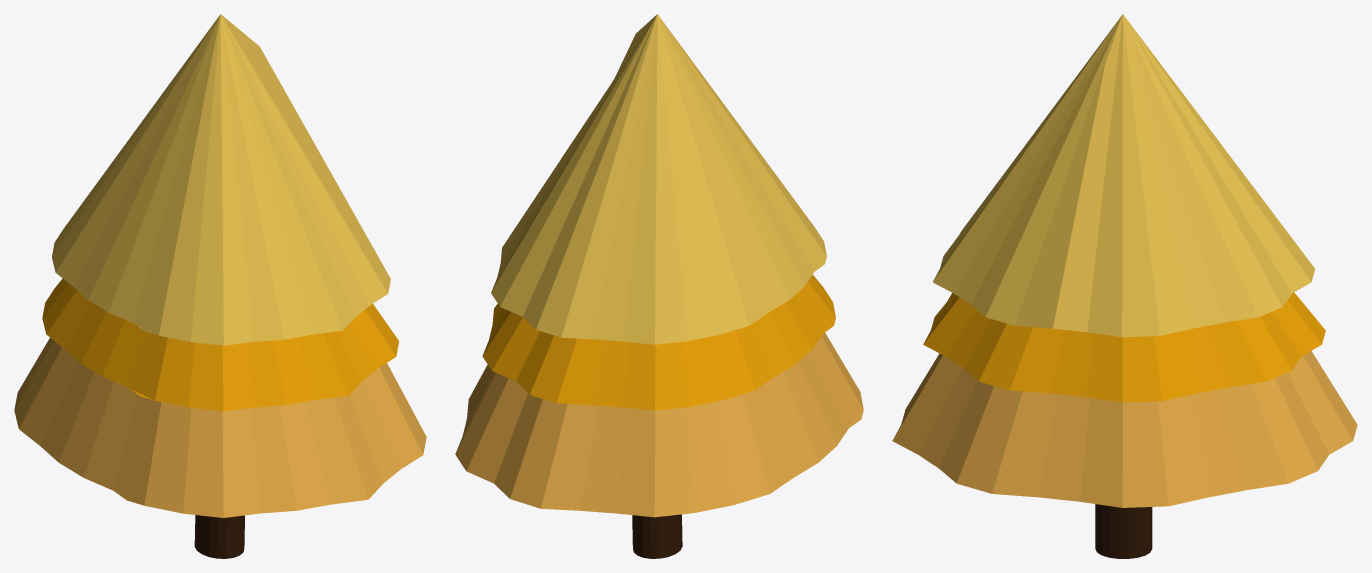
The model's file is pinetree 2.fbx.
3 views of the same model, side by side, from view 1: azimuth 30°, elevation 25°; view 2: azimuth 150°, elevation 25°; view 3: azimuth 270°, elevation 25° (orthographic).
Visible parts, largest first — view 1: Cone.002, Cone, Cone.001, Cylinder; view 2: Cone.002, Cone, Cone.001, Cylinder; view 3: Cone.002, Cone, Cone.001, Cylinder.
Boxes of the visible parts, <box> form: Cone.002: <box>52,14,390,345</box>; Cone: <box>14,338,426,517</box>; Cone.001: <box>42,278,399,411</box>; Cylinder: <box>194,515,244,558</box>; Cone.002: <box>491,14,826,344</box>; Cone: <box>455,332,863,517</box>; Cone.001: <box>482,274,835,410</box>; Cylinder: <box>632,514,682,558</box>; Cone.002: <box>933,14,1315,337</box>; Cone: <box>892,351,1357,507</box>; Cone.001: <box>923,292,1325,402</box>; Cylinder: <box>1095,504,1152,558</box>.
Size of the model in its own units: 464 by 715 by 563.
